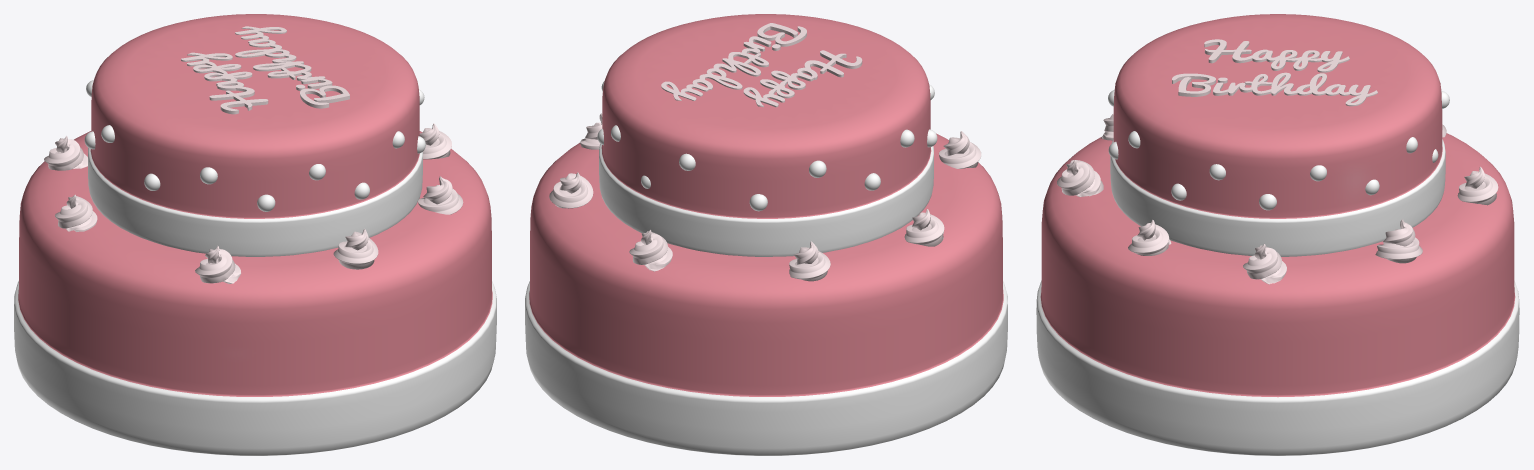
The model's file is cake.glb.
3 views of the same model, side by side, from view 1: azimuth 30°, elevation 25°; view 2: azimuth 150°, elevation 25°; view 3: azimuth 270°, elevation 25° (orthographic).
Parts seen in each view (by area): view 1: Object_61; view 2: Object_61; view 3: Object_61.
Boxes of the visible parts, box(x1,y1,x2,y2) form: Object_61: box(14, 14, 496, 455); Object_61: box(525, 14, 1007, 455); Object_61: box(1036, 14, 1519, 455).
Bounding box in the file's own units: 6.16 × 4.04 × 6.16.
Materials: 1 (1 with a texture image).
